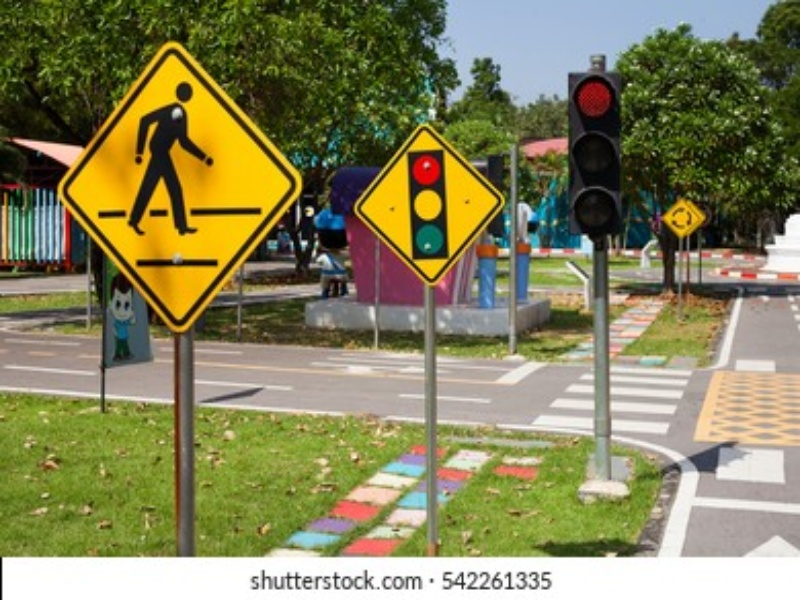traffic signal sign: (351, 120, 507, 287)
